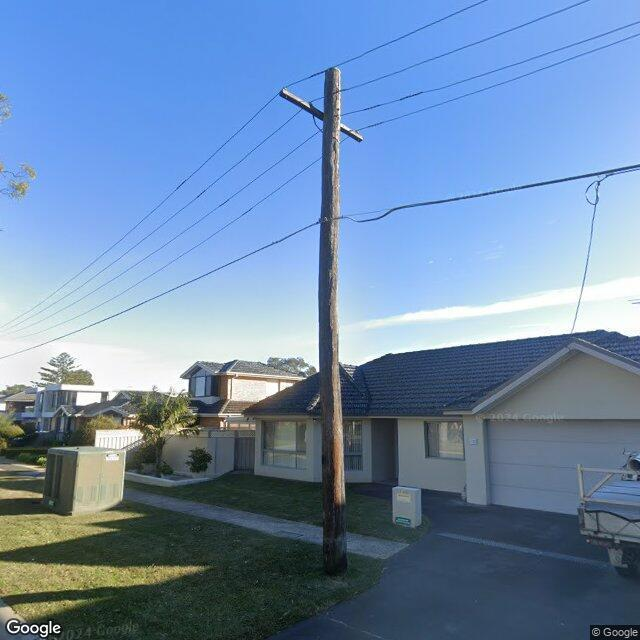crossarm: (279, 86, 363, 144)
timber-pole: (324, 67, 348, 579)
